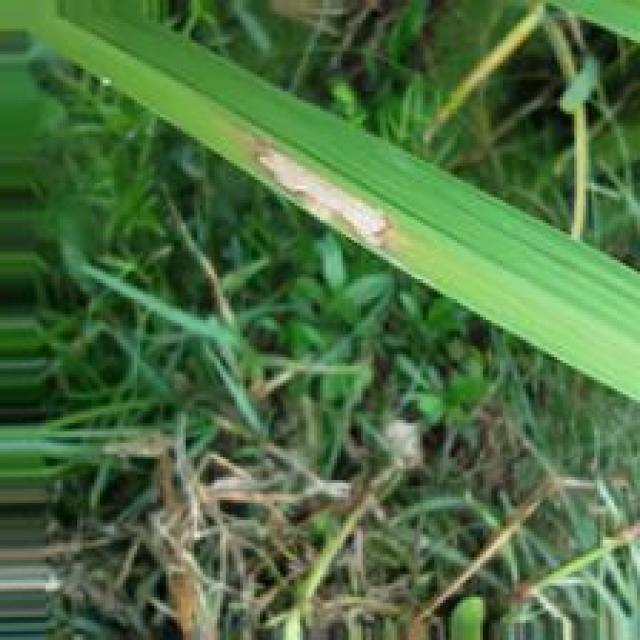Rice Tungro: (260, 139, 396, 247)
